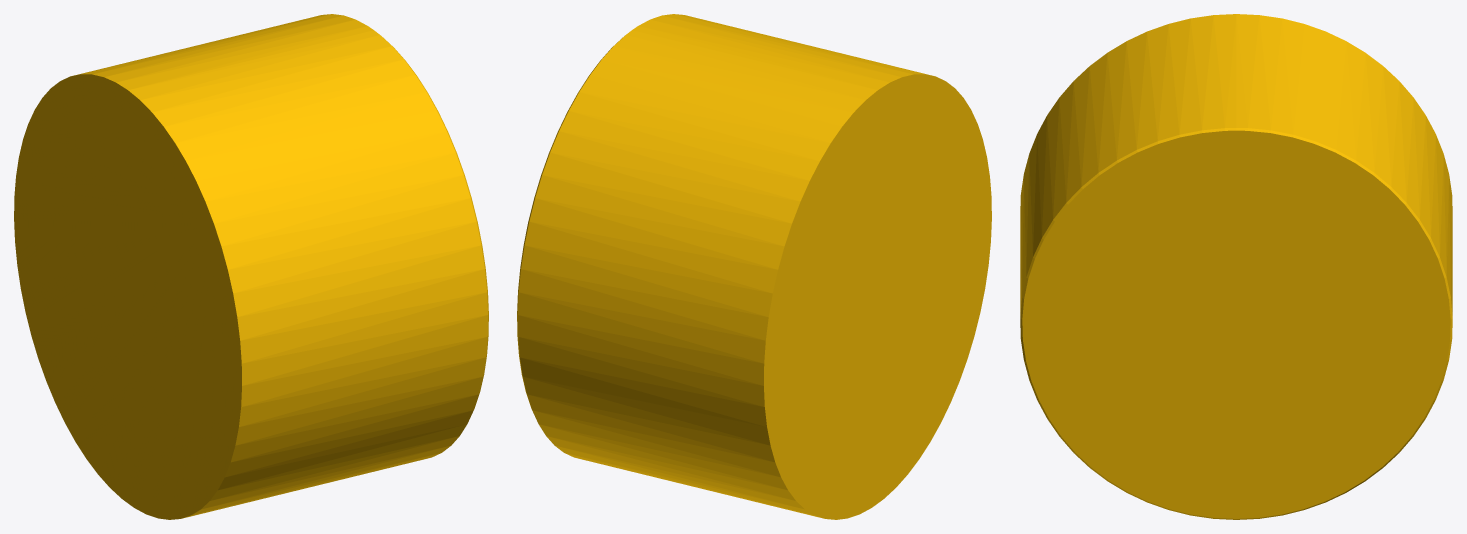
3 renders of one model, left to right at view 1: azimuth 30°, elevation 25°; view 2: azimuth 150°, elevation 25°; view 3: azimuth 270°, elevation 25°, orthographic. The views are drawn at different scales.
Visible parts, largest first — view 1: Link 6.001; view 2: Link 6.001; view 3: Link 6.001.
Part boxes in pixels (<box>): Link 6.001: <box>14,14,488,519</box>; Link 6.001: <box>517,14,991,519</box>; Link 6.001: <box>1020,14,1452,519</box>.
Bounding box in the file's own units: 0.0389 × 0.062 × 0.062.
